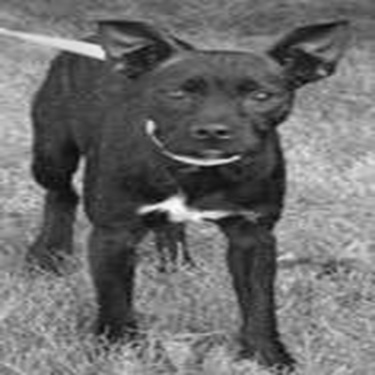dog: (20, 7, 355, 373)
